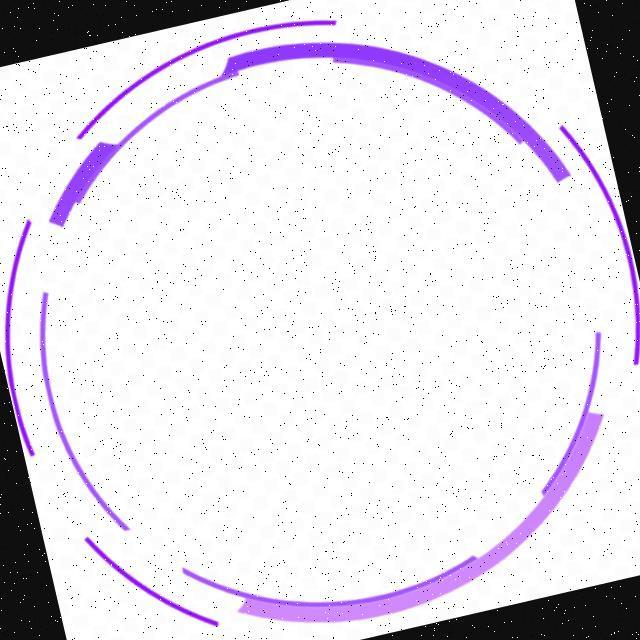Circle: (7, 15, 638, 630)
